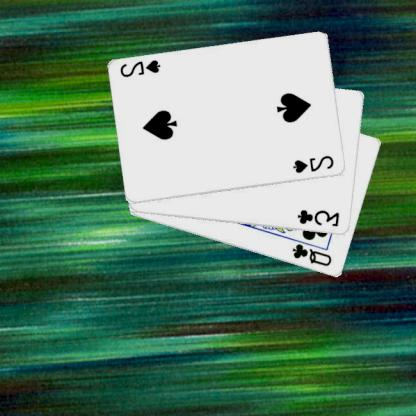2S: (119, 57, 165, 79), (292, 153, 337, 175)
3C: (297, 206, 343, 228)
QC: (292, 241, 336, 268)
